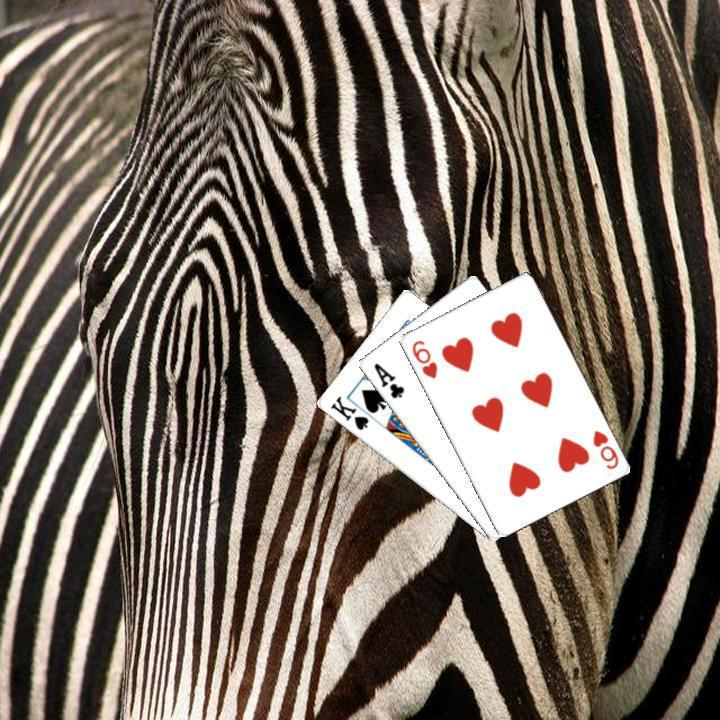6: (407, 335, 439, 381), (588, 426, 620, 471)
A: (369, 358, 406, 401)
K: (325, 392, 371, 433)
